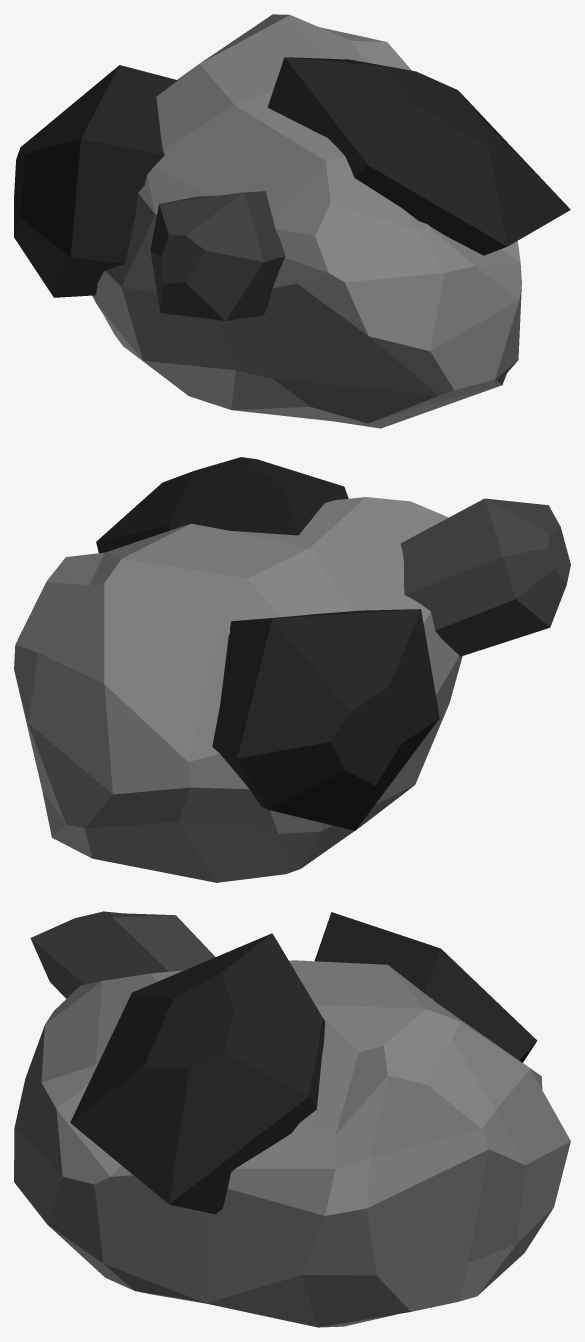
File: MineralNode_04_C.fbx
3 views of the same model, one above another, from view 1: azimuth 30°, elevation 25°; view 2: azimuth 150°, elevation 25°; view 3: azimuth 270°, elevation 25° (orthographic). The views are drawn at different scales.
Visible parts, largest first — view 1: MineralNode_04_C; view 2: MineralNode_04_C; view 3: MineralNode_04_C.
Boxes of the visible parts, x1,y1,x2,y2 form: MineralNode_04_C: [14, 14, 570, 428]; MineralNode_04_C: [14, 457, 570, 882]; MineralNode_04_C: [14, 911, 570, 1327].
Bounding box in the file's own units: 89.81 × 66.71 × 103.
